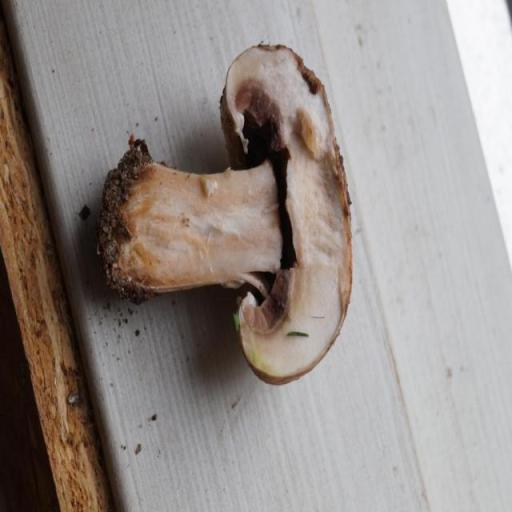mushroom: (93, 41, 352, 388)
